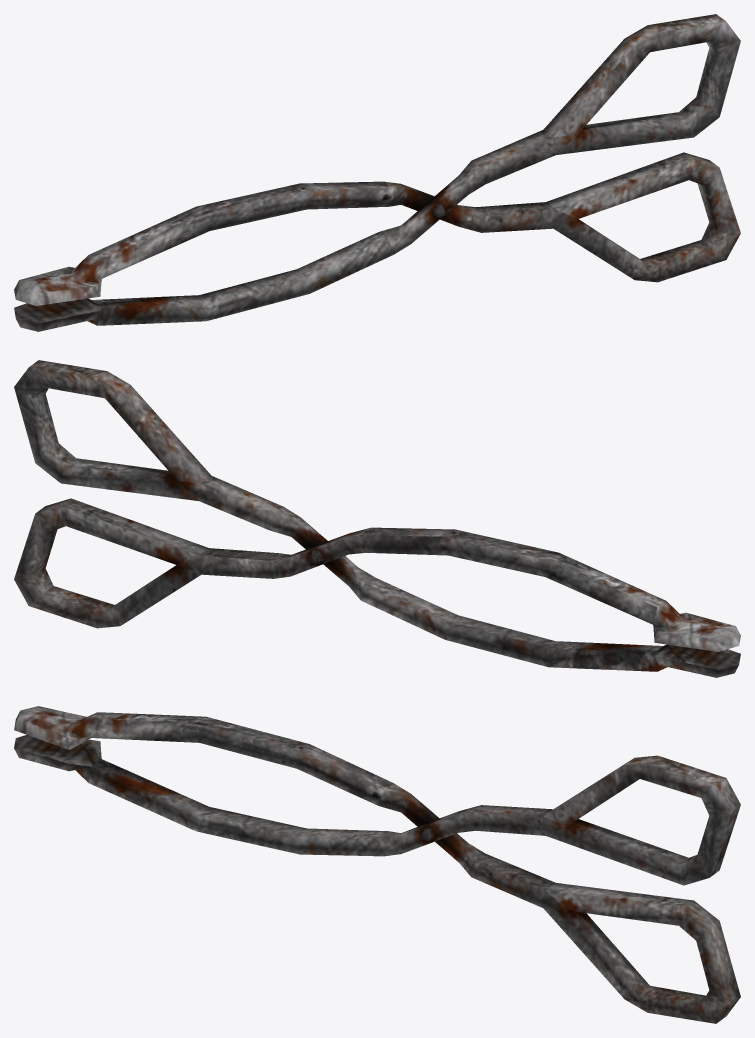
File: tongs.dae
The picture shows the model from 3 angles, top to bottom: view 1: azimuth 30°, elevation 25°; view 2: azimuth 150°, elevation 25°; view 3: azimuth 330°, elevation 25°; orthographic projection.
Visible parts, largest first — view 1: tongs; view 2: tongs; view 3: tongs.
Part boxes in pixels (x1,y1,x2,y2): tongs: (14, 14, 740, 331); tongs: (14, 360, 740, 677); tongs: (14, 706, 740, 1023).
Size of the model in its own units: 0.3012 by 0.0999 by 0.0223.
